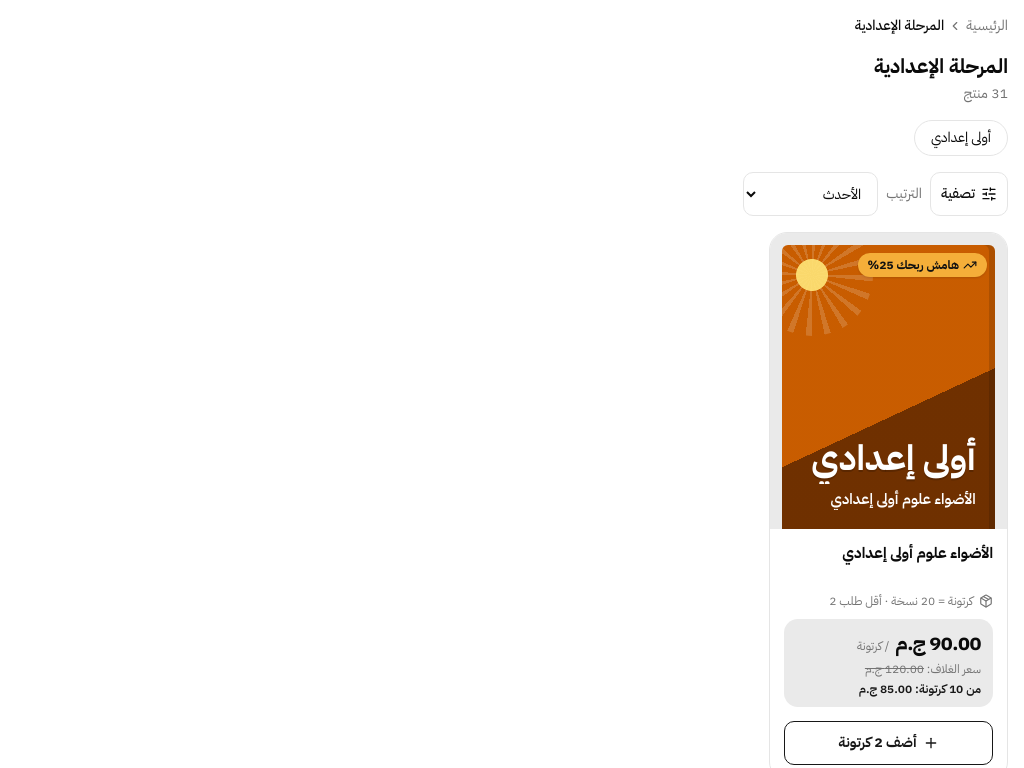
it: ProductListing › BR-P08 D18 lists the facets in the server's order with their counts
Click the button "تصفية" at [969, 194], box [930,172,1008,216]
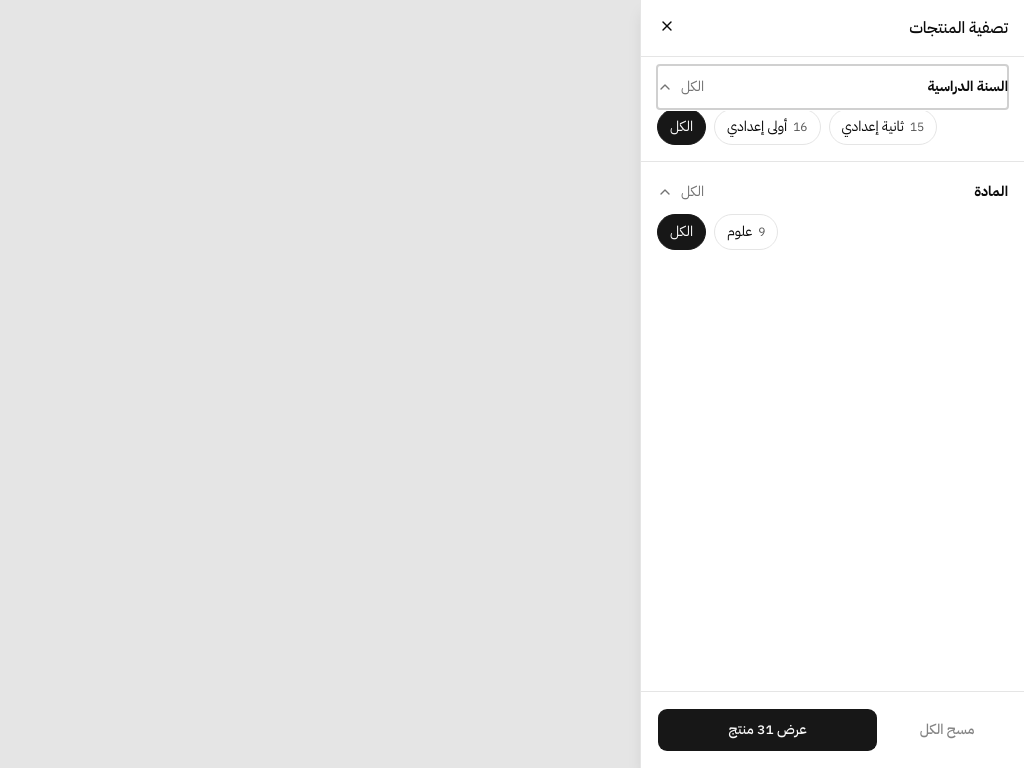
expect the radio button labelled "أولى إعدادي 16" is shown: met, box [714,109,821,145]
